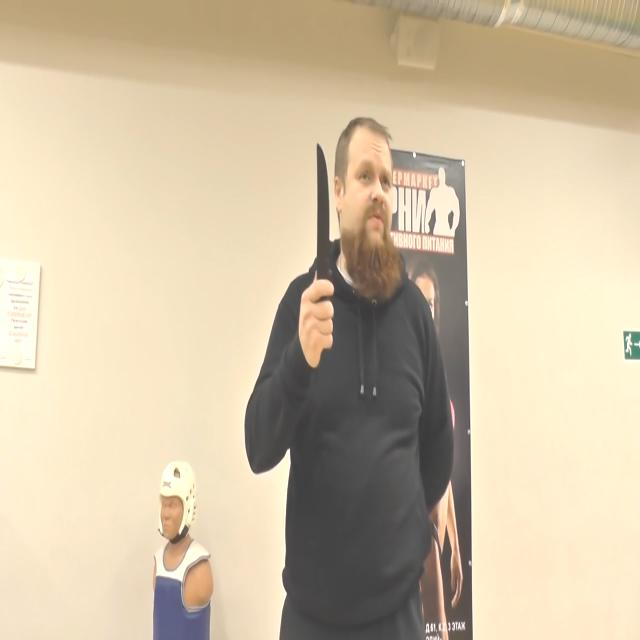knife: (301, 137, 335, 352)
